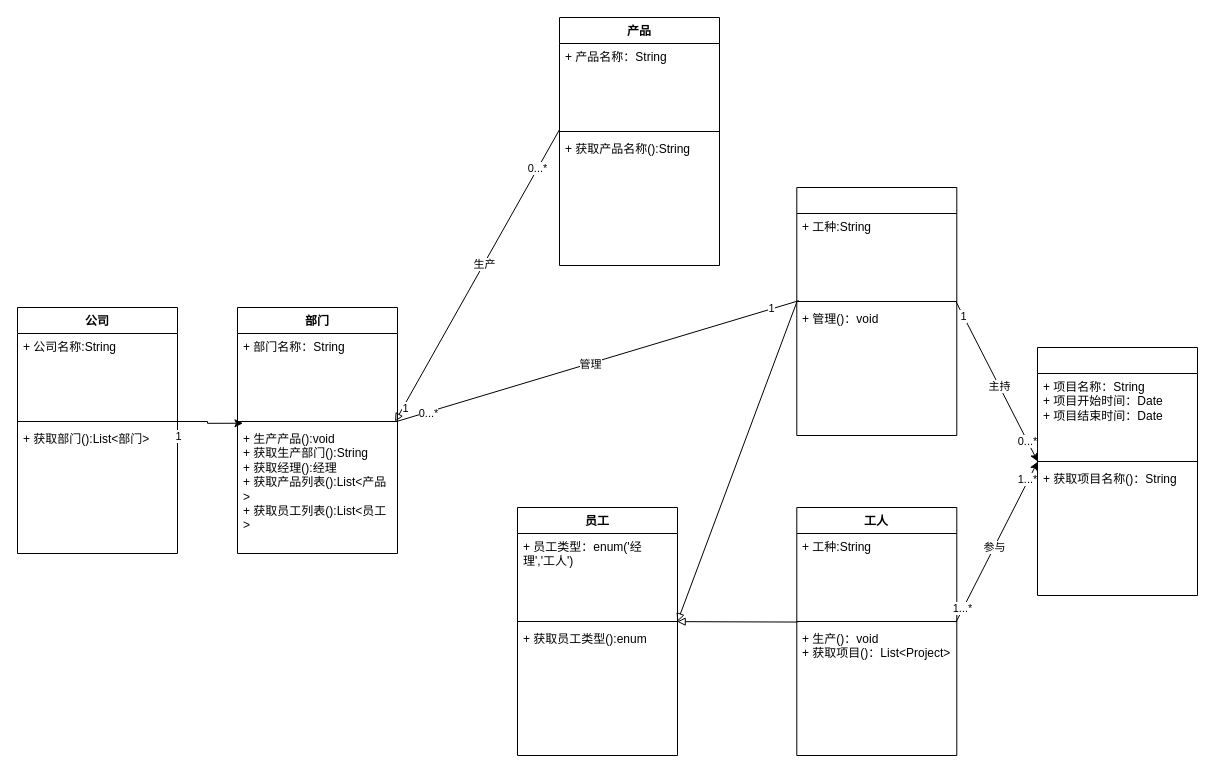
This 1215x776 diagram has some shape labels left out. Here are the shapes that lost their labels. From the top down, the box of each, then its label:
(796, 186, 957, 436): 经理
(1036, 346, 1198, 596): 项目
